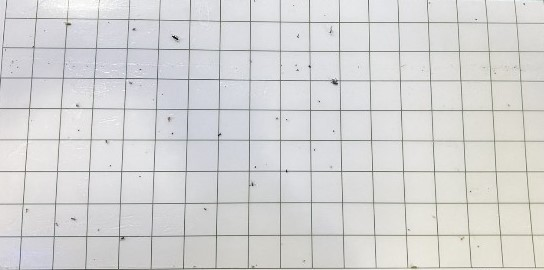fly: (328, 76, 340, 87)
test: (169, 33, 182, 43), (326, 26, 336, 36), (118, 234, 127, 243), (63, 20, 73, 28), (69, 216, 78, 224), (248, 179, 256, 188), (283, 167, 291, 176), (73, 102, 82, 109), (127, 79, 134, 87), (54, 221, 61, 229), (202, 205, 209, 213), (103, 138, 110, 145), (75, 127, 82, 134), (24, 207, 31, 214), (459, 236, 467, 242), (506, 101, 512, 109), (410, 264, 419, 269), (131, 26, 137, 33), (166, 115, 172, 122), (406, 227, 412, 234), (295, 32, 301, 39), (138, 67, 144, 73), (217, 132, 223, 138), (307, 64, 313, 70), (248, 58, 254, 64), (316, 99, 323, 104), (30, 44, 36, 49), (96, 228, 101, 234), (108, 163, 114, 168), (137, 174, 143, 179), (253, 164, 259, 169), (151, 97, 156, 103), (295, 68, 300, 74), (328, 164, 334, 169), (474, 17, 479, 23), (522, 2, 528, 7), (330, 129, 337, 133), (274, 115, 279, 120), (160, 92, 165, 97), (475, 244, 480, 249), (301, 258, 306, 263), (291, 4, 296, 9), (107, 20, 111, 26), (312, 148, 318, 152), (357, 64, 361, 70), (284, 117, 288, 122), (294, 62, 298, 67), (279, 63, 284, 67), (469, 189, 474, 193), (171, 131, 174, 137), (427, 1, 431, 5)
